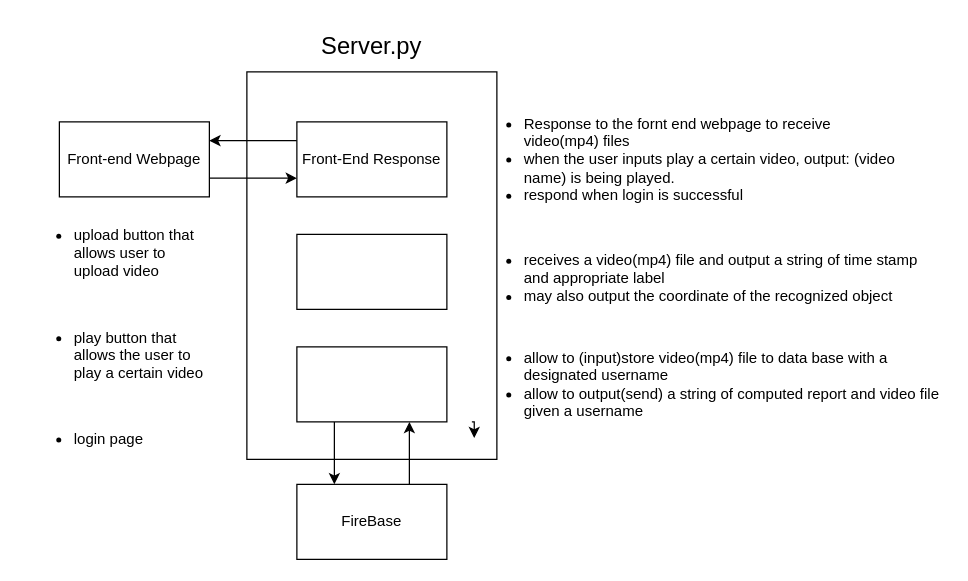
Some shapes in this 968 by 581 pixel diagram are drawn without their labels. Each missing label, with the centre of its shape:
DataBase API: the point at 371,384
ML algoriothm: the point at 371,271
